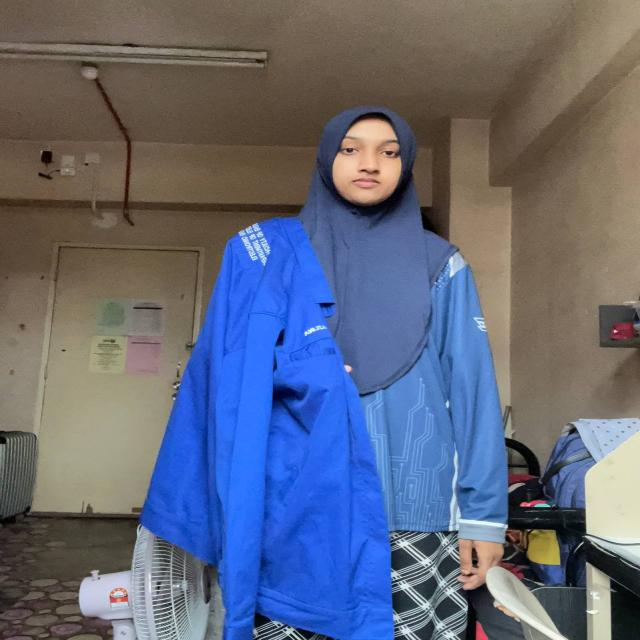person_without_labcoat: (139, 107, 507, 640)
